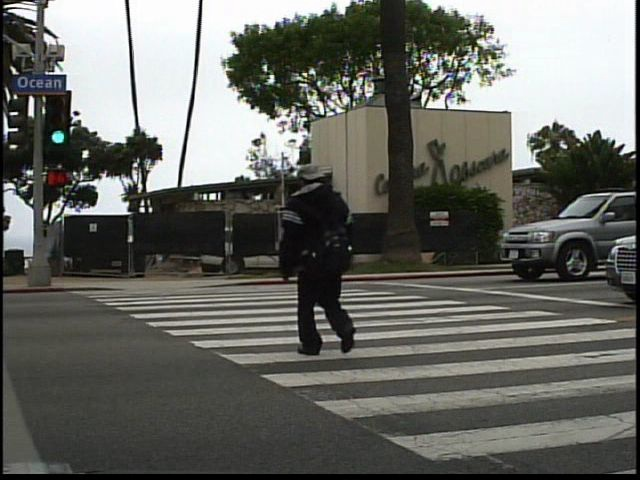person: (271, 156, 375, 367)
